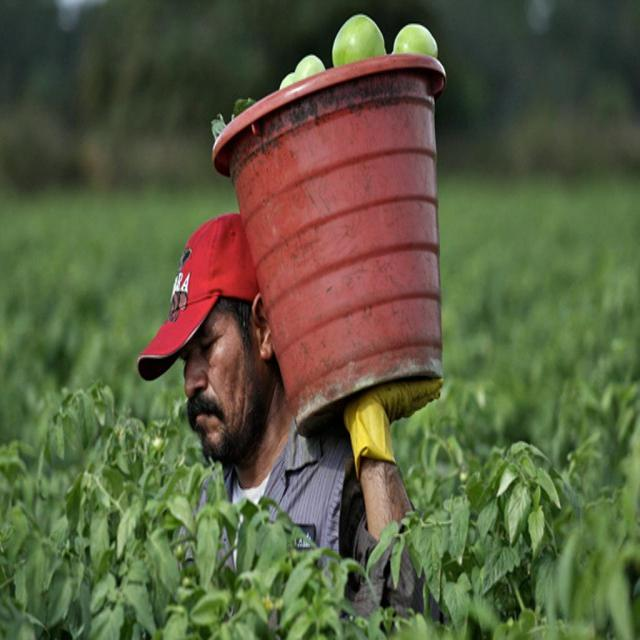nomask: (184, 260, 268, 452)
